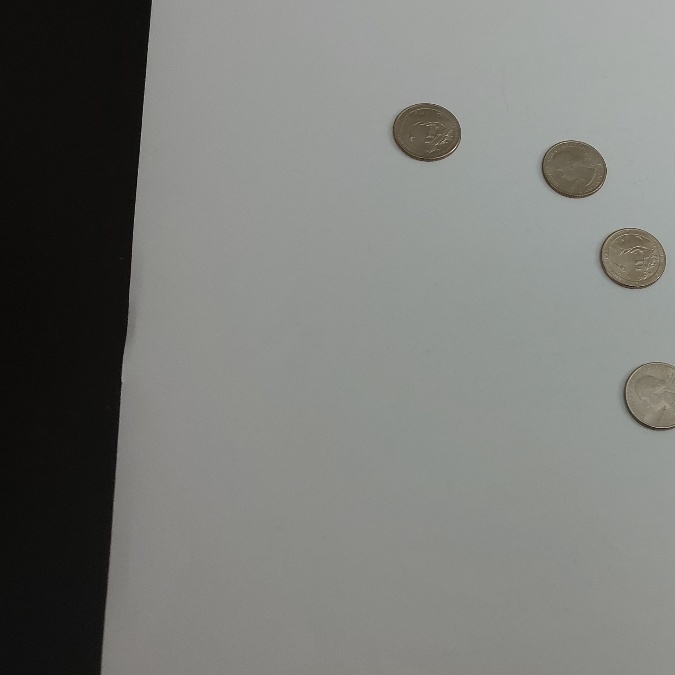coin_quarter: (596, 222, 667, 292), (537, 134, 610, 201), (391, 100, 464, 167)
